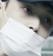mask_weared_incorrect: (1, 1, 53, 56)
